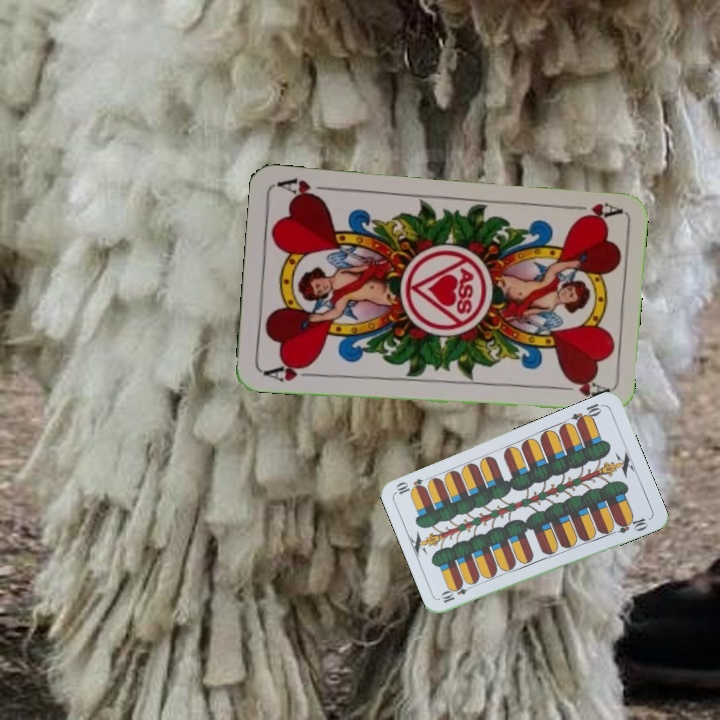E10: (567, 399, 606, 428), (437, 580, 476, 605)
HA: (259, 358, 319, 384), (563, 198, 623, 224)
